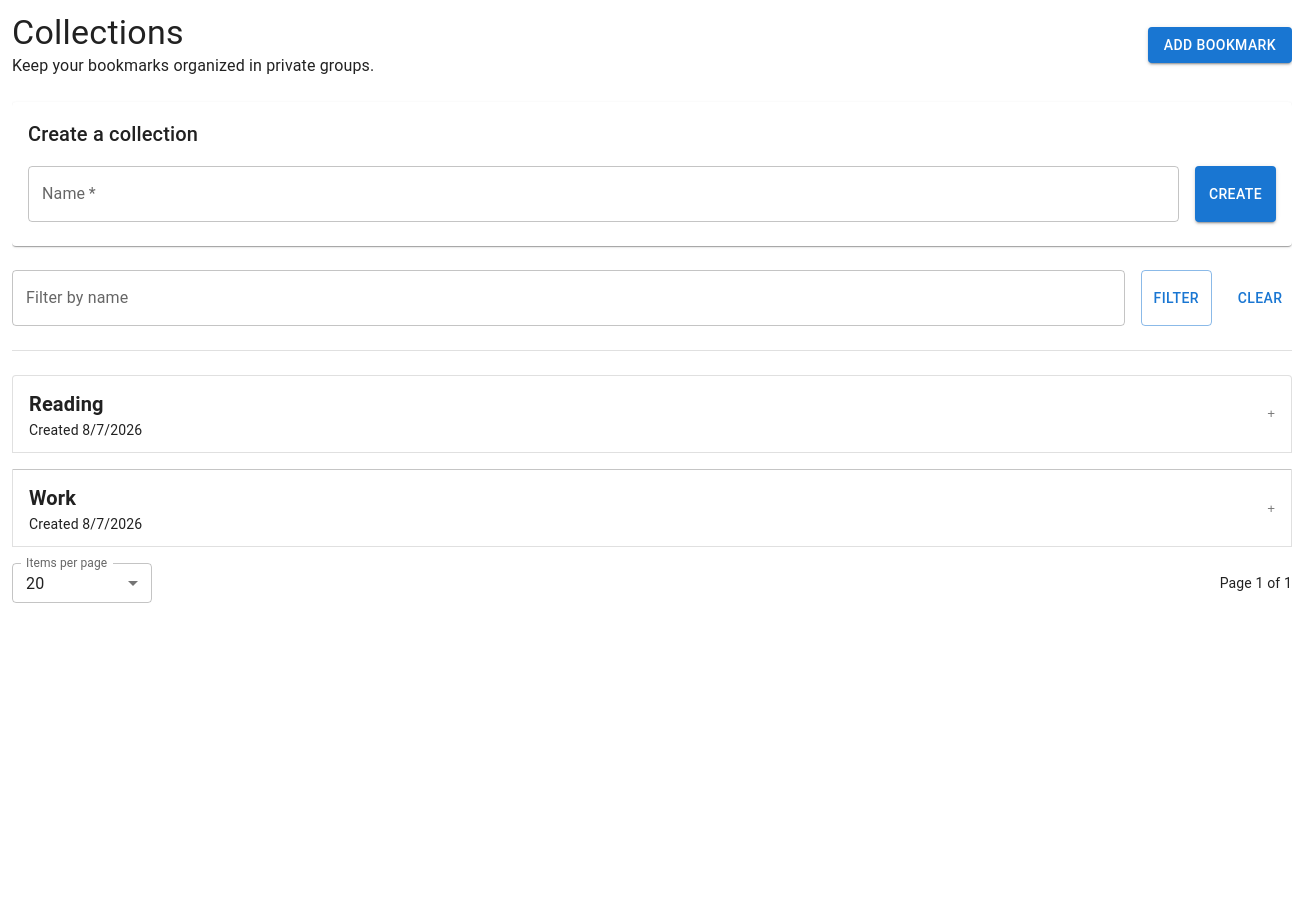
Test: CollectionsPage › does not request nested bookmarks until a collection is expanded
Expected: the heading "Reading" is shown, [29,392,104,416]
Step 1. Click the button "Reading Created 8/7/2026 +" → (66, 404), box [13,376,1291,452]
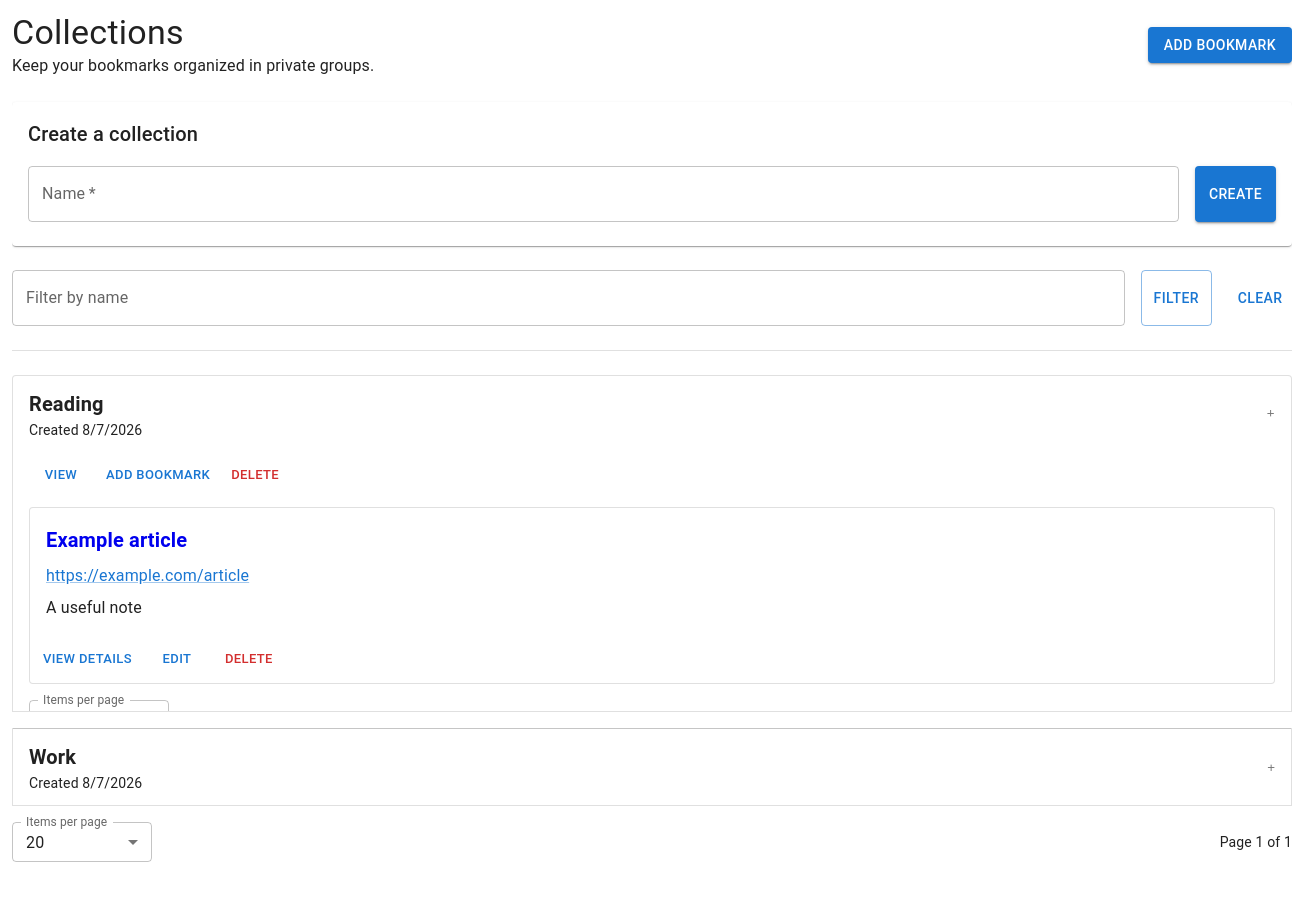
Now the link "Example article" is shown, box [46,528,187,552]
